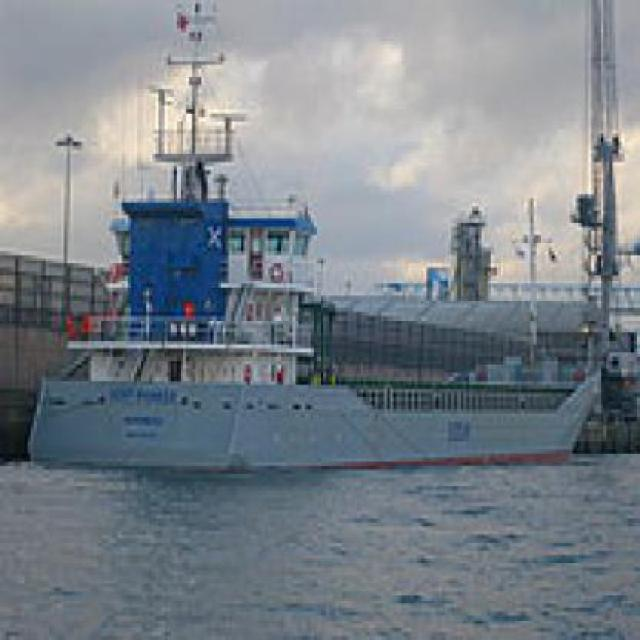container: (13, 29, 611, 487)
